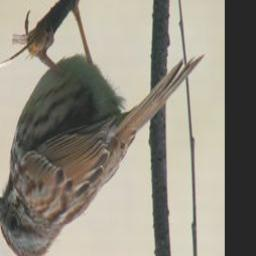Sparrow: (0, 0, 207, 256)
